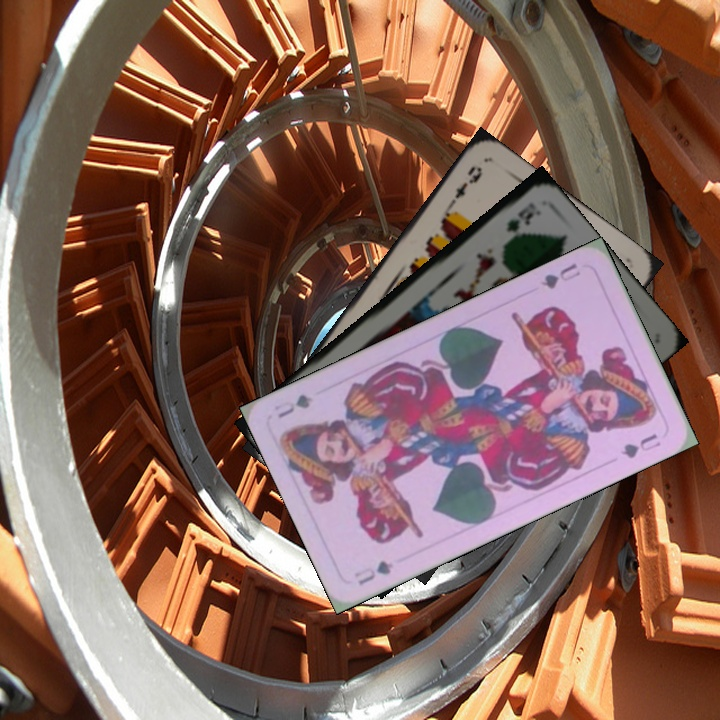E9: (445, 162, 485, 210)
GK: (502, 198, 541, 235)
GU: (536, 258, 583, 292), (350, 556, 396, 588)
